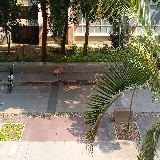fire: (57, 68, 61, 72)
